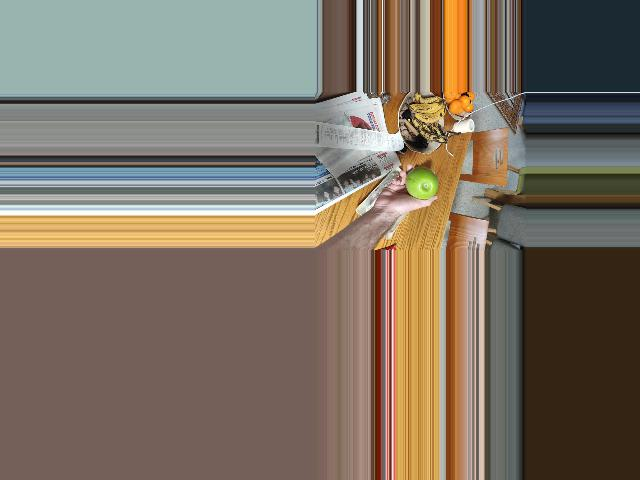apple: (404, 168, 439, 202)
